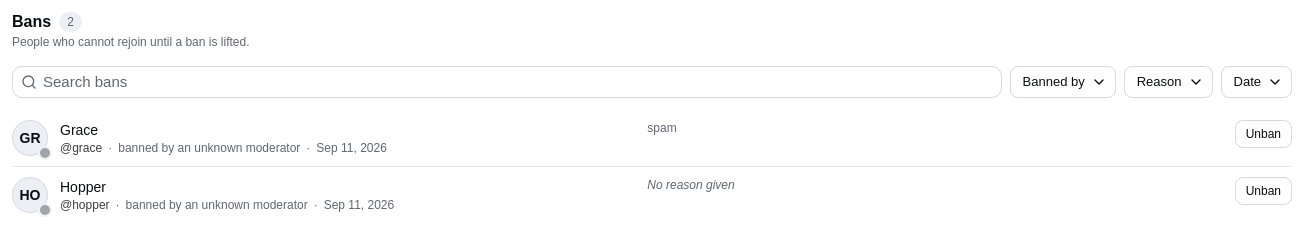
Test: BansPage › narrows to the bans that carry a reason
Expected: the text "Grace" is shown, [60, 122, 98, 138]
Click the button "Reason".
click(1168, 82)  # box [1124, 66, 1212, 98]
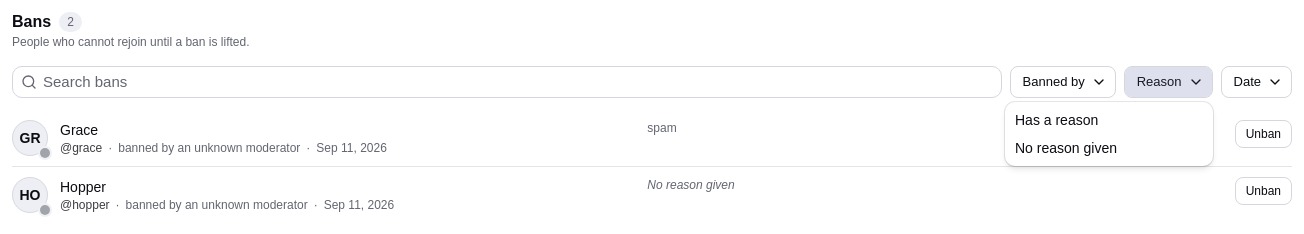
Click the menu item "No reason given".
click(1066, 148)  # box [1015, 140, 1117, 156]
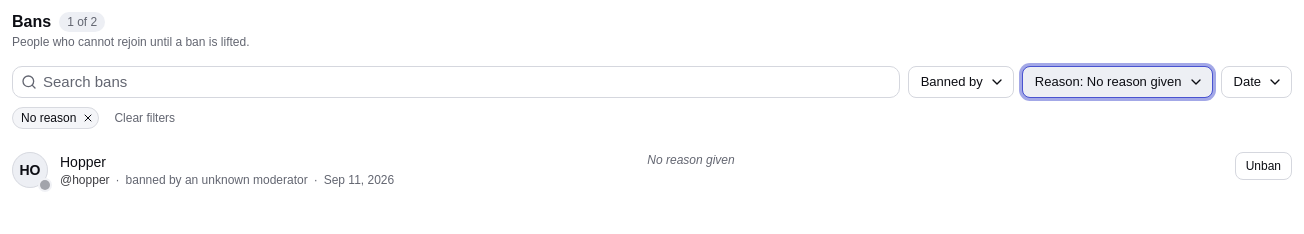
Expected: the text "Hopper" is shown, [60, 154, 106, 170]
Expected: the text "Grace" is gone
Click the button named "Remove filter No reason".
click(88, 118)  # box [80, 110, 96, 126]
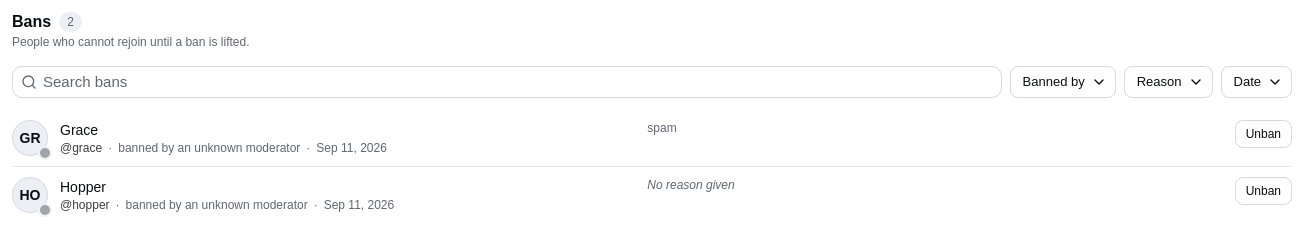
Expected: the text "Grace" is shown, [60, 122, 98, 138]
